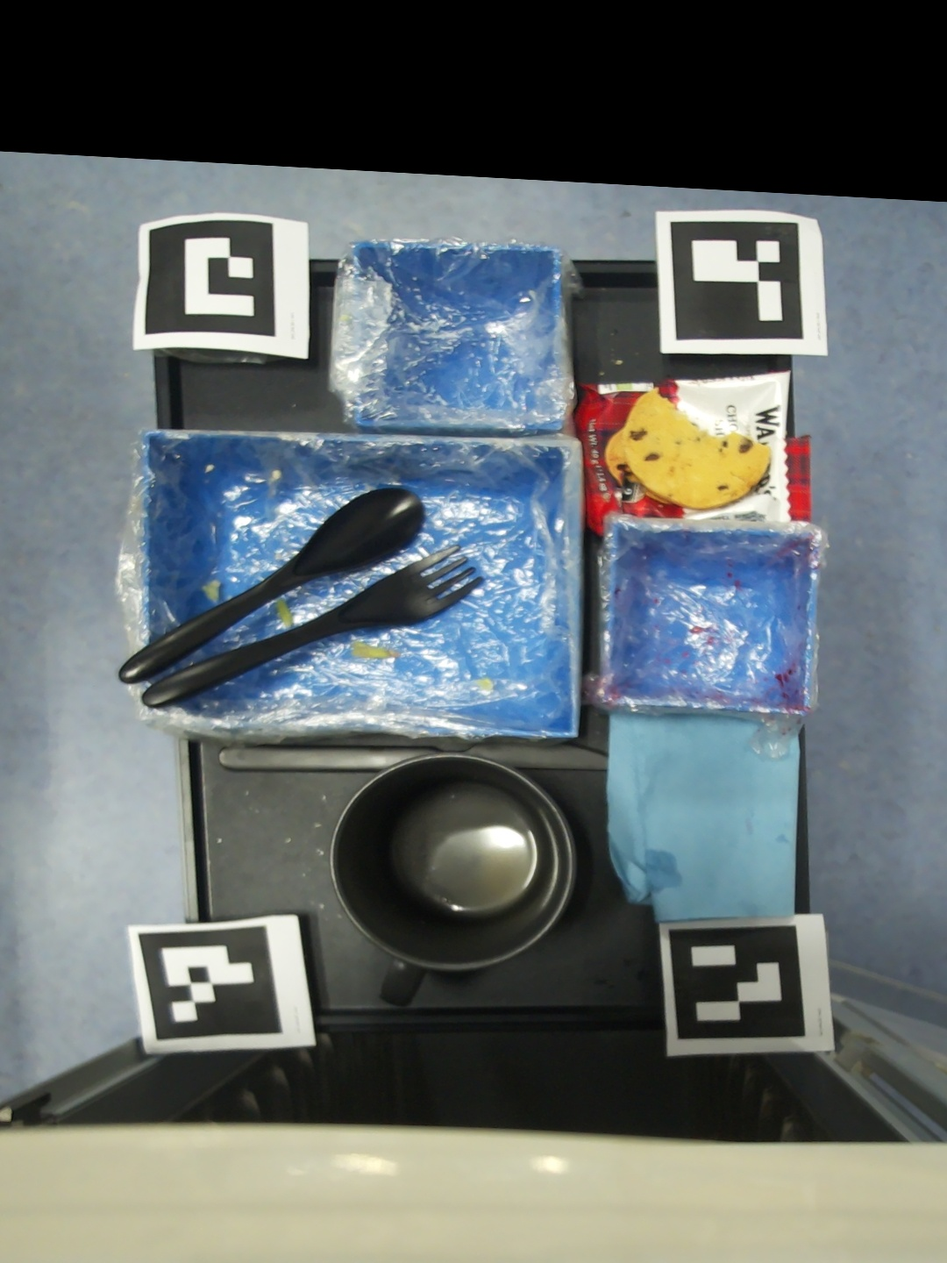coffee_cup: (330, 753, 576, 1006)
cookie: (575, 369, 810, 537)
wrap_half_1: (351, 639, 402, 658), (201, 579, 222, 601), (277, 599, 292, 626), (478, 679, 493, 688), (272, 470, 282, 479), (205, 466, 215, 472)
